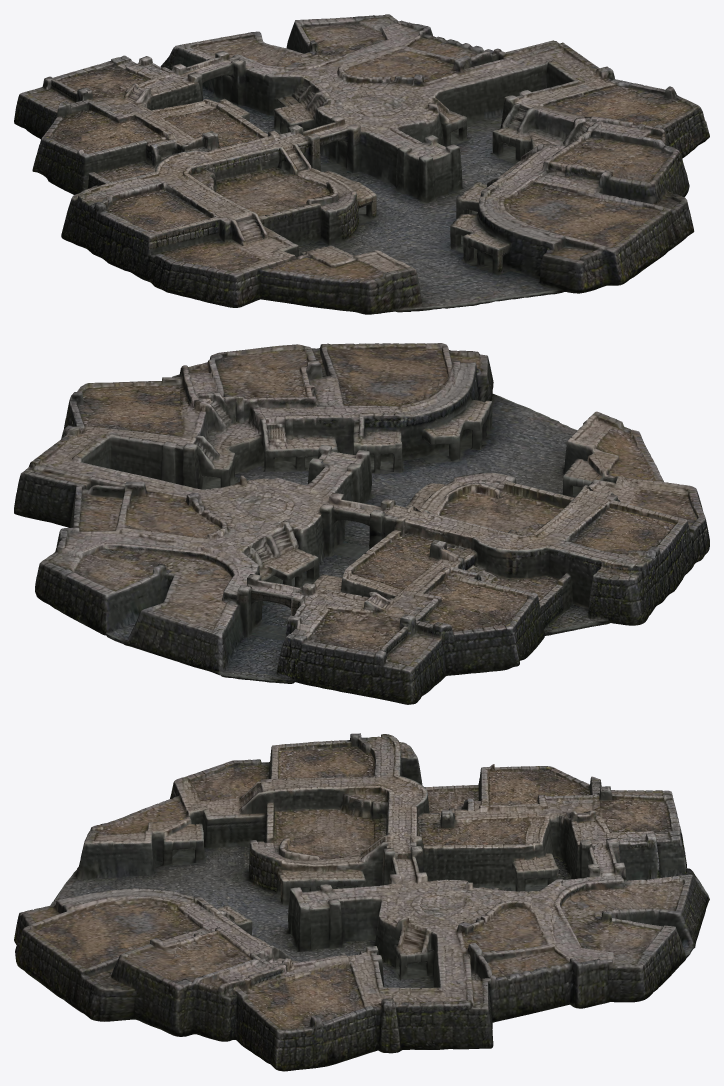
The model's file is Revel02.fbx.
3 renders of one model, top to bottom at view 1: azimuth 30°, elevation 25°; view 2: azimuth 150°, elevation 25°; view 3: azimuth 270°, elevation 25°, orthographic. The views are drawn at different scales.
Visible parts, largest first — view 1: stone dungeon 3d model; view 2: stone dungeon 3d model; view 3: stone dungeon 3d model.
Part boxes in pixels (left/top/right/bottom): stone dungeon 3d model: left=14, top=14, right=709, bottom=314; stone dungeon 3d model: left=14, top=343, right=709, bottom=704; stone dungeon 3d model: left=14, top=733, right=709, bottom=1071.
Size of the model in its own units: 5160 by 441 by 5140.
Materials: 1 (1 with a texture image).
